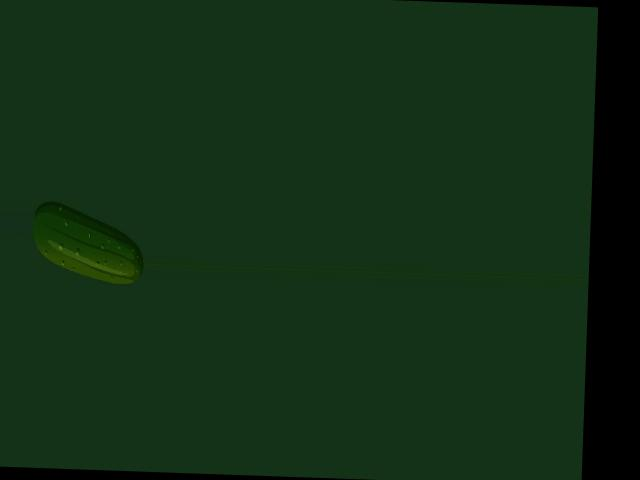cucumber: (31, 200, 145, 284)
